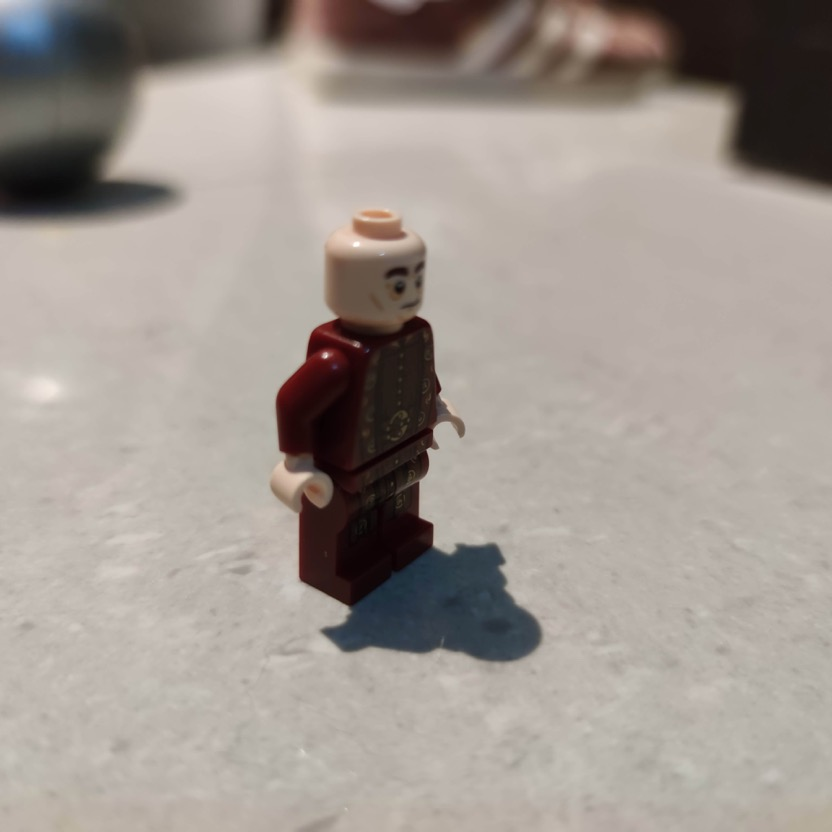lego: (269, 209, 469, 608)
